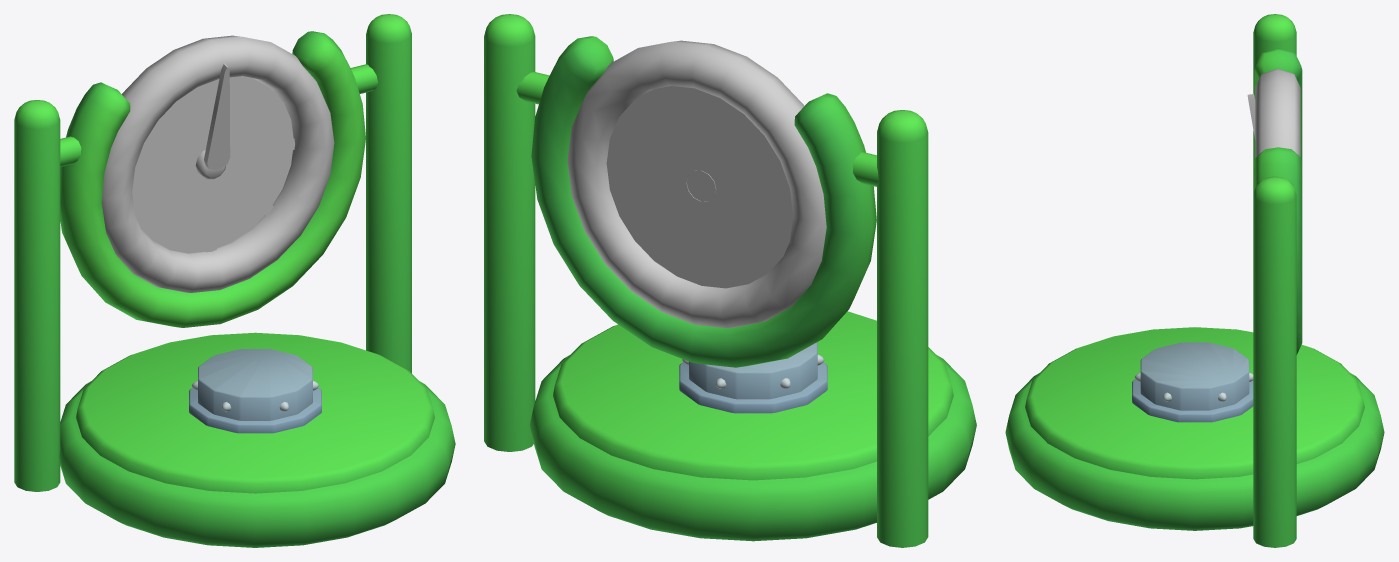
The model's file is clock.fbx.
3 renders of one model, left to right at view 1: azimuth 30°, elevation 25°; view 2: azimuth 150°, elevation 25°; view 3: azimuth 270°, elevation 25°, orthographic. The views are drawn at different scales.
Visible parts, largest first — view 1: Circle, Circle.003, Circle.005, Plane.001; view 2: Circle, Circle.003, Circle.005; view 3: Circle, Circle.005, Circle.003.
Part boxes in pixels (x1=…): Circle: x1=14, y1=14, x2=455, y2=547; Circle.003: x1=101, y1=35, x2=334, y2=292; Circle.005: x1=189, y1=349, x2=321, y2=433; Plane.001: x1=204, y1=63, x2=230, y2=169; Circle: x1=484, y1=14, x2=976, y2=547; Circle.003: x1=567, y1=40, x2=826, y2=328; Circle.005: x1=679, y1=342, x2=827, y2=413; Circle: x1=1005, y1=14, x2=1384, y2=547; Circle.005: x1=1132, y1=342, x2=1253, y2=422; Circle.003: x1=1255, y1=68, x2=1300, y2=157.
Size of the model in its own units: 236 by 229 by 209.
